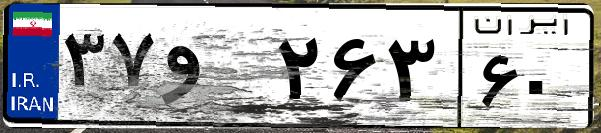0: (525, 38, 570, 115)
2: (270, 28, 330, 110)
3: (385, 28, 445, 110), (57, 26, 110, 100)
6: (330, 28, 385, 110), (475, 38, 525, 113)
7: (110, 28, 158, 98)
و: (158, 20, 270, 120)
